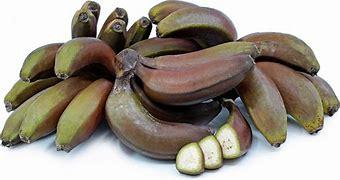banana: (15, 1, 340, 180), (109, 47, 270, 162)
